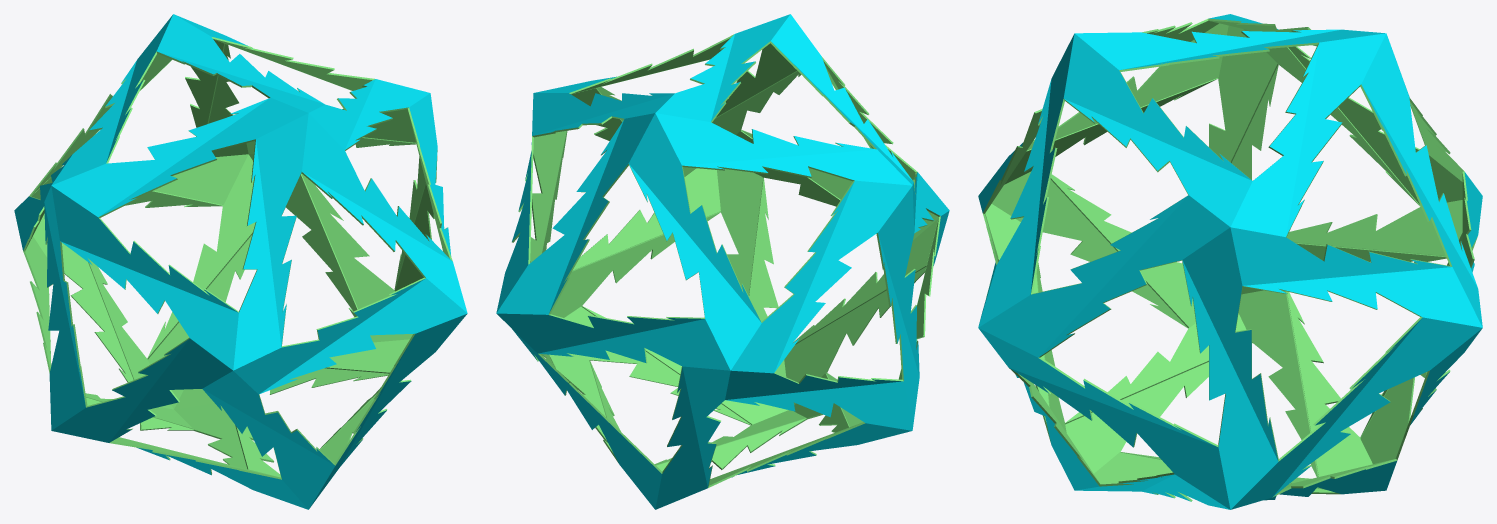
The model's file is Icosahedron2.glb.
The picture shows the model from 3 angles, left to right: view 1: azimuth 30°, elevation 25°; view 2: azimuth 150°, elevation 25°; view 3: azimuth 270°, elevation 25°; orthographic projection. The views are drawn at different scales.
Visible parts, largest first — view 1: root; view 2: root; view 3: root.
Boxes of the visible parts, bbox=[...] form: root: bbox=[14, 14, 467, 509]; root: bbox=[496, 14, 949, 509]; root: bbox=[978, 14, 1482, 509].
Bounding box in the file's own units: 4.85 × 4.85 × 4.85.
